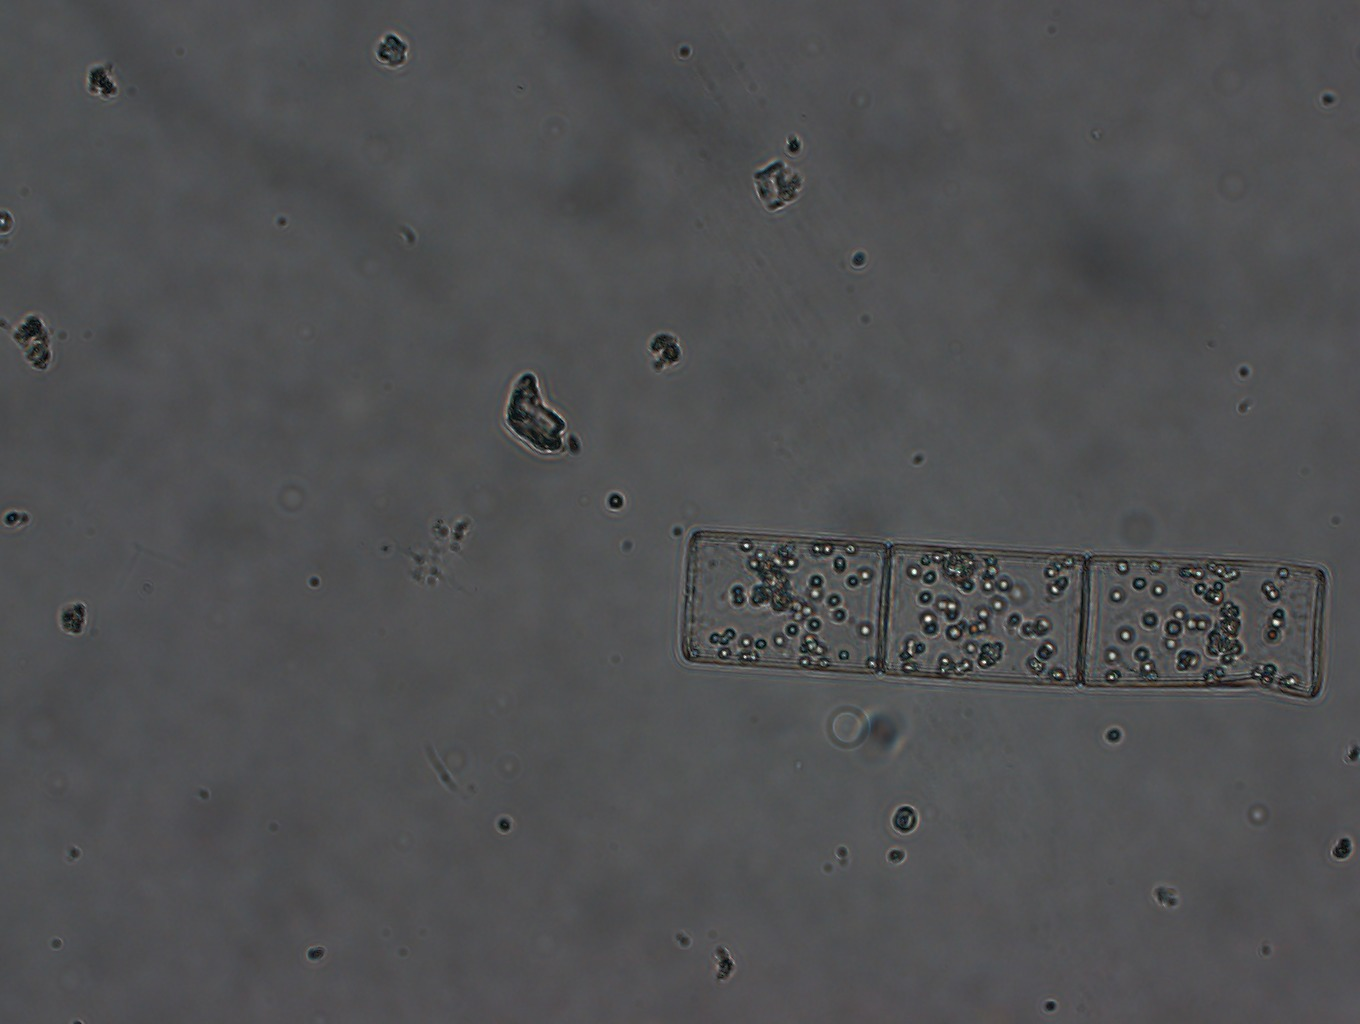guinardia flaccida: (676, 514, 1334, 715)
